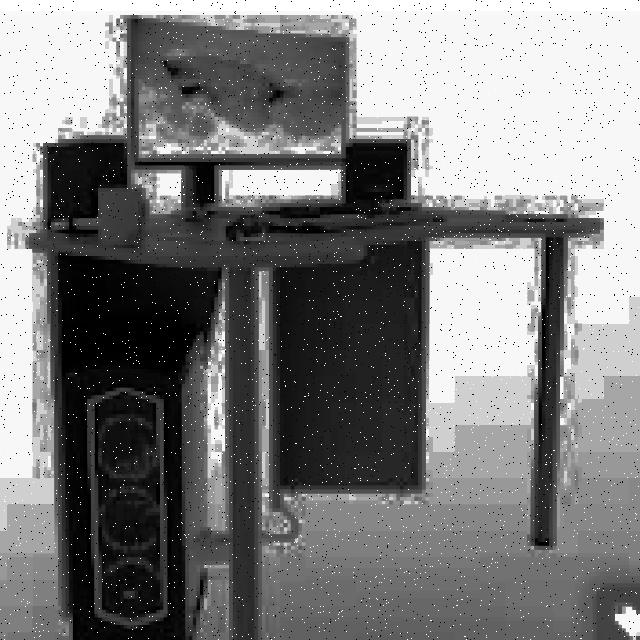table: (29, 203, 604, 640)
